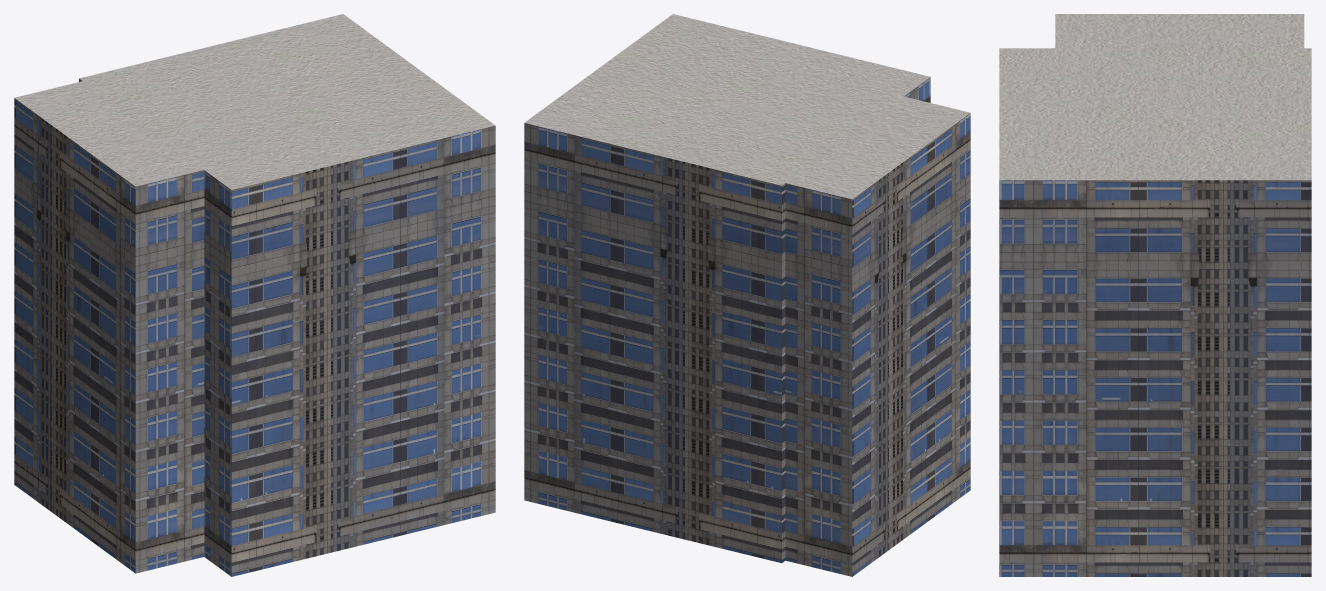
The model's file is building_012.glb.
3 views of the same model, side by side, from view 1: azimuth 30°, elevation 25°; view 2: azimuth 150°, elevation 25°; view 3: azimuth 270°, elevation 25° (orthographic). The views are drawn at different scales.
Parts seen in each view (by area): view 1: building_012; view 2: building_012; view 3: building_012.
Boxes of the visible parts, left/top/right/bottom form: building_012: left=14, top=14, right=495, bottom=576; building_012: left=524, top=14, right=970, bottom=576; building_012: left=999, top=14, right=1311, bottom=576.
Size of the model in its own units: 1889 by 2100 by 1500.
Materials: 2 (2 with a texture image).
